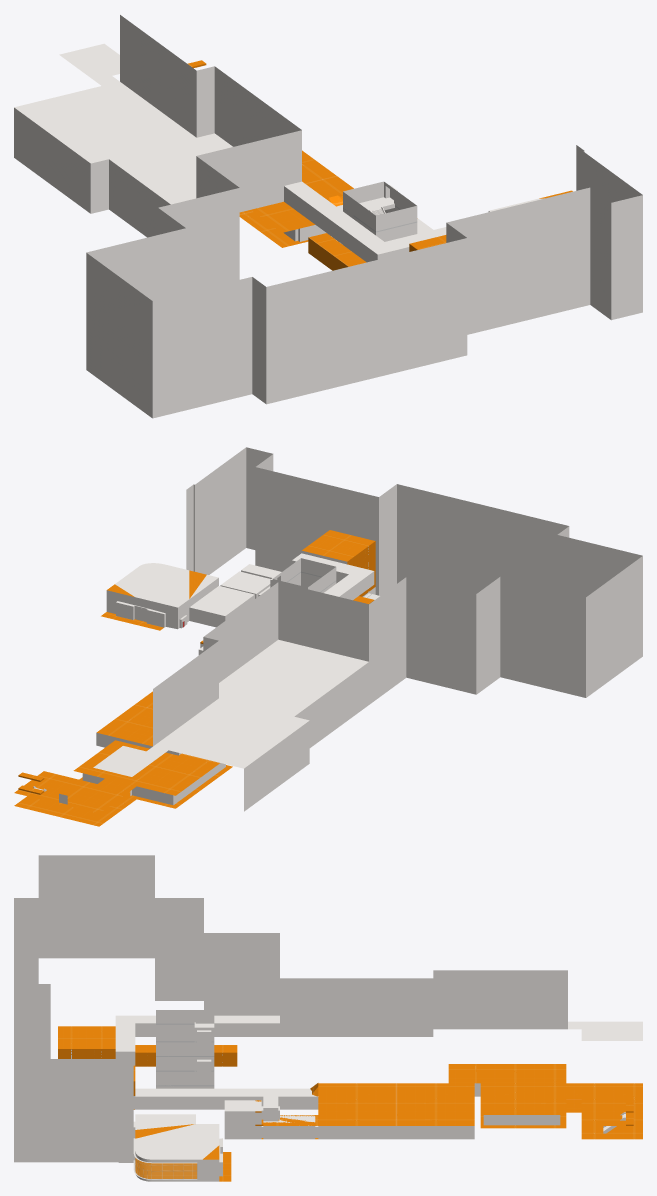
File: hospital_map.gltf
3 renders of one model, top to bottom at view 1: azimuth 30°, elevation 25°; view 2: azimuth 150°, elevation 25°; view 3: azimuth 270°, elevation 25°, orthographic. The views are drawn at different scales.
Visible parts, largest first — view 1: hospital_Floor4.001, hospital_Floor4.002, hospital_Floor4, hospital_Basement, f1Walls.003, f4Walls, f2Walls; view 2: hospital_Floor4.001, hospital_Floor4.002, hospital_Floor4, hospital_Basement, f1Walls-col, verytallroom, f1Walls.003, f1Walls.009, f1Walls.008, f4Walls; view 3: hospital_Floor4.001, hospital_Basement, hospital_Floor4.002, f1Walls.002, f1Walls-col, f1Walls.003, f1Walls.010, hospital_Floor4, verytallroom, f4Walls, hospital_Floor1, f2Walls (+2 smaller).
Boxes of the visible parts, bbox=[...] form: hospital_Floor4.001: bbox=[14, 15, 467, 418]; hospital_Floor4.002: bbox=[446, 145, 642, 334]; hospital_Floor4: bbox=[14, 43, 446, 254]; hospital_Basement: bbox=[187, 60, 353, 247]; f1Walls.003: bbox=[343, 181, 417, 250]; f4Walls: bbox=[284, 186, 409, 262]; f2Walls: bbox=[308, 233, 366, 270]; hospital_Floor4.001: bbox=[153, 484, 642, 811]; hospital_Floor4.002: bbox=[186, 447, 396, 595]; hospital_Floor4: bbox=[93, 553, 373, 776]; hospital_Basement: bbox=[14, 640, 232, 826]; f1Walls-col: bbox=[106, 563, 254, 629]; verytallroom: bbox=[301, 530, 375, 596]; f1Walls.003: bbox=[270, 558, 336, 592]; f1Walls.009: bbox=[82, 732, 225, 805]; f1Walls.008: bbox=[220, 564, 281, 598]; f4Walls: bbox=[278, 560, 374, 643]; hospital_Floor4.001: bbox=[14, 855, 567, 1036]; hospital_Basement: bbox=[255, 1064, 642, 1139]; hospital_Floor4.002: bbox=[14, 984, 133, 1162]; f1Walls.002: bbox=[135, 1088, 318, 1139]; f1Walls-col: bbox=[133, 1114, 222, 1181]; f1Walls.003: bbox=[156, 1010, 214, 1088]; f1Walls.010: bbox=[261, 1115, 474, 1139]; hospital_Floor4: bbox=[115, 1015, 642, 1051]; verytallroom: bbox=[58, 1026, 135, 1109]; f4Walls: bbox=[115, 1023, 279, 1065]; hospital_Floor1: bbox=[134, 1083, 318, 1181]; f2Walls: bbox=[133, 1045, 237, 1095].
Size of the model in its own units: 173 by 42.8 by 205.
6 materials, 1 textured.
